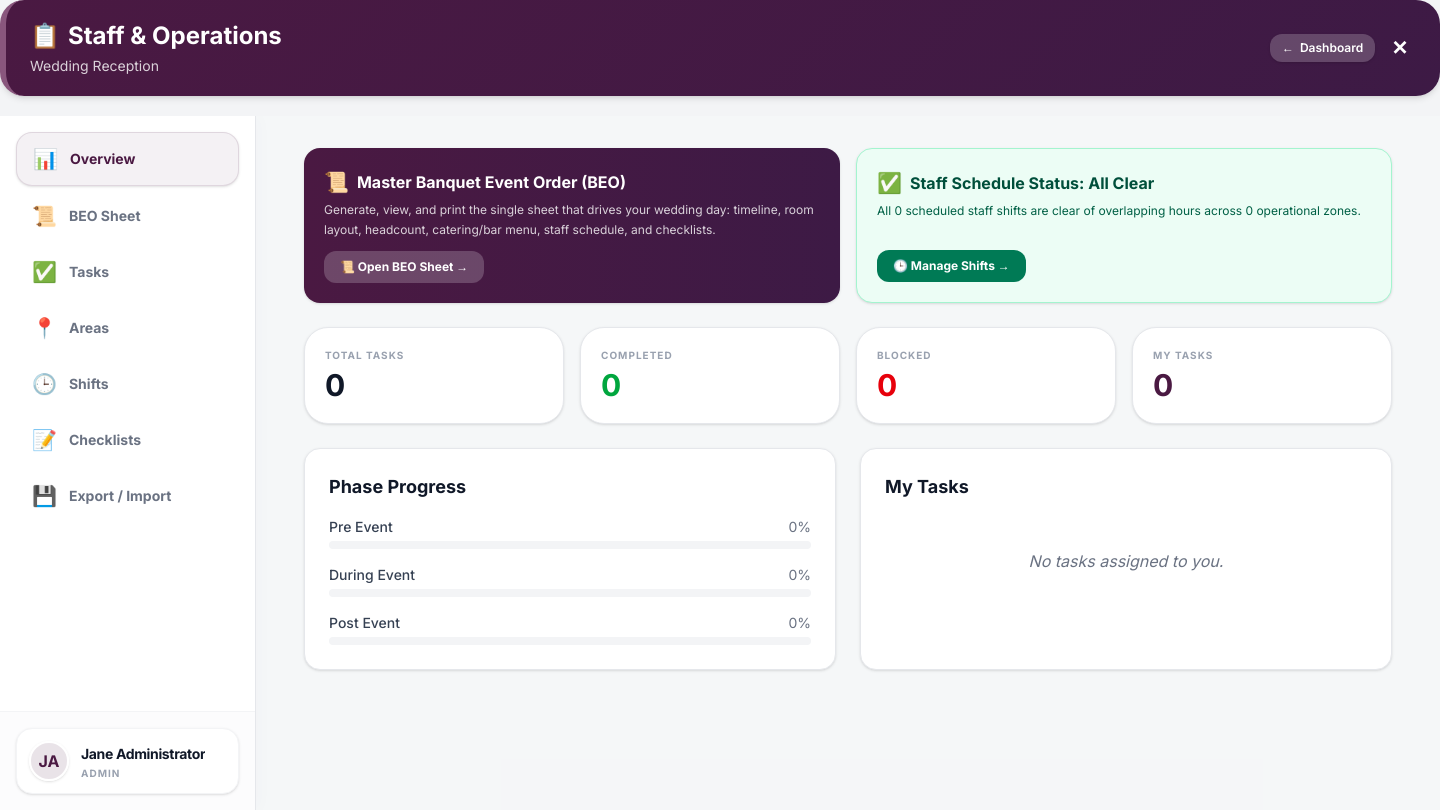
Test: StaffOperationsPanel (Operations Studio Module) › switches to BEO Sheet tab and displays master Banquet Event Order with couple, layout, schedule, and print BEO button
Click the button "📜 BEO Sheet". click: (128, 216)
box: x1=16 y1=190 x2=239 y2=242
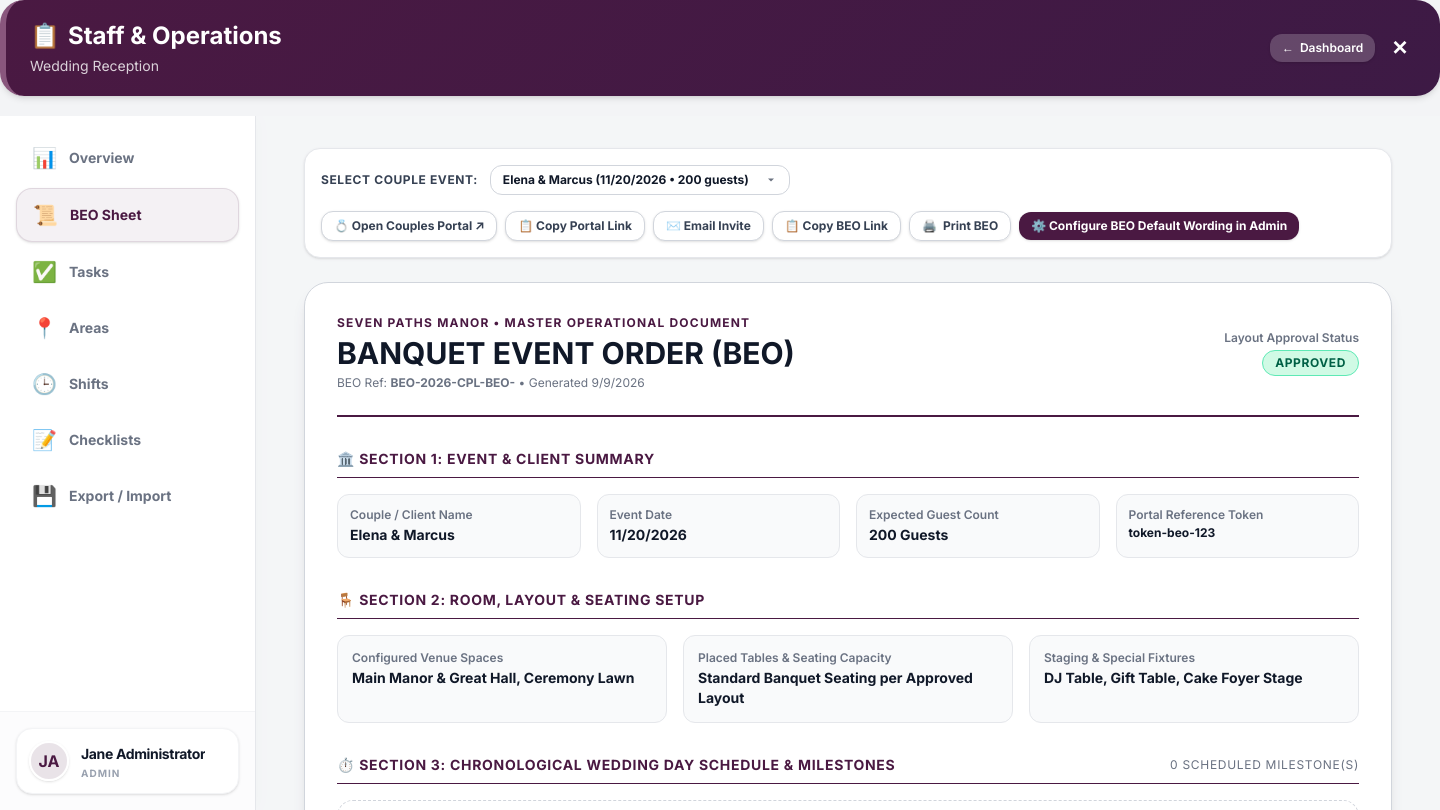
Expected: the button "🖨️ Print BEO" is shown, x1=909 y1=211 x2=1011 y2=241
